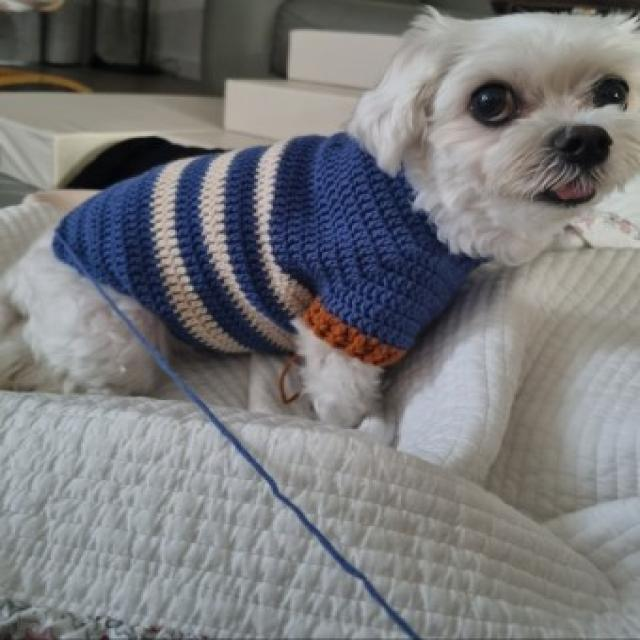cloth: (54, 132, 481, 366)
